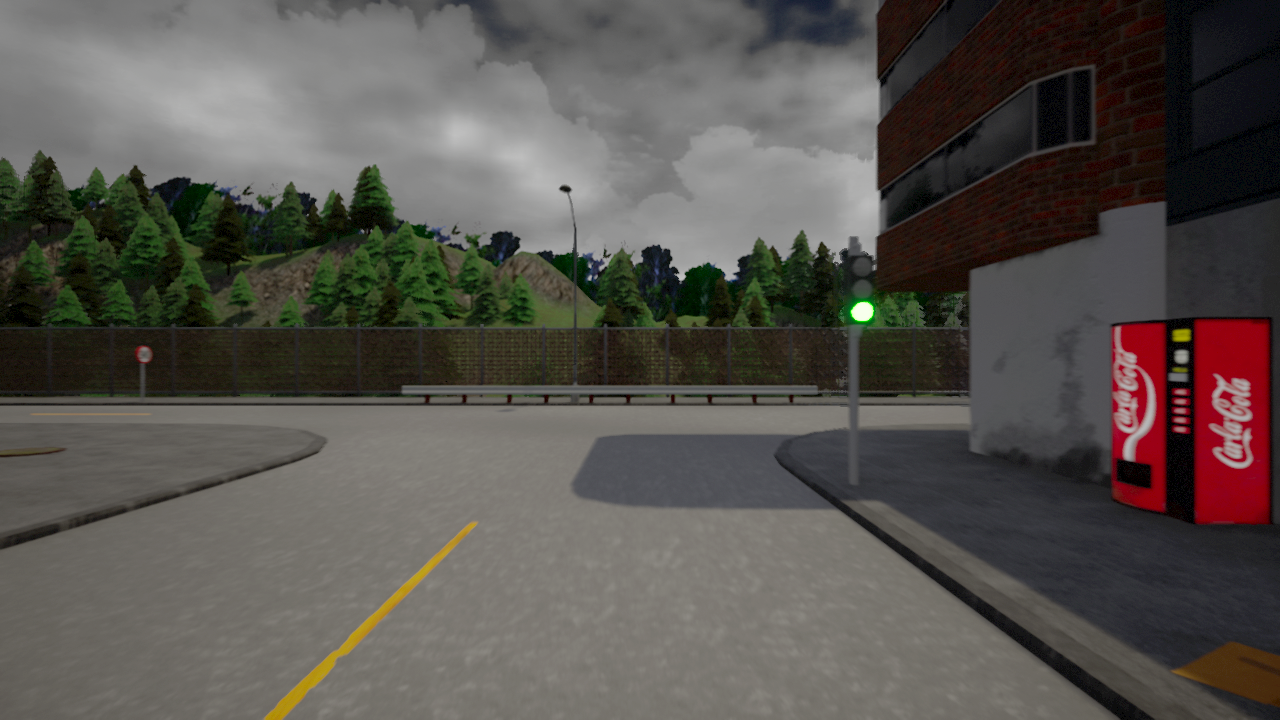green: (845, 252, 877, 325)
